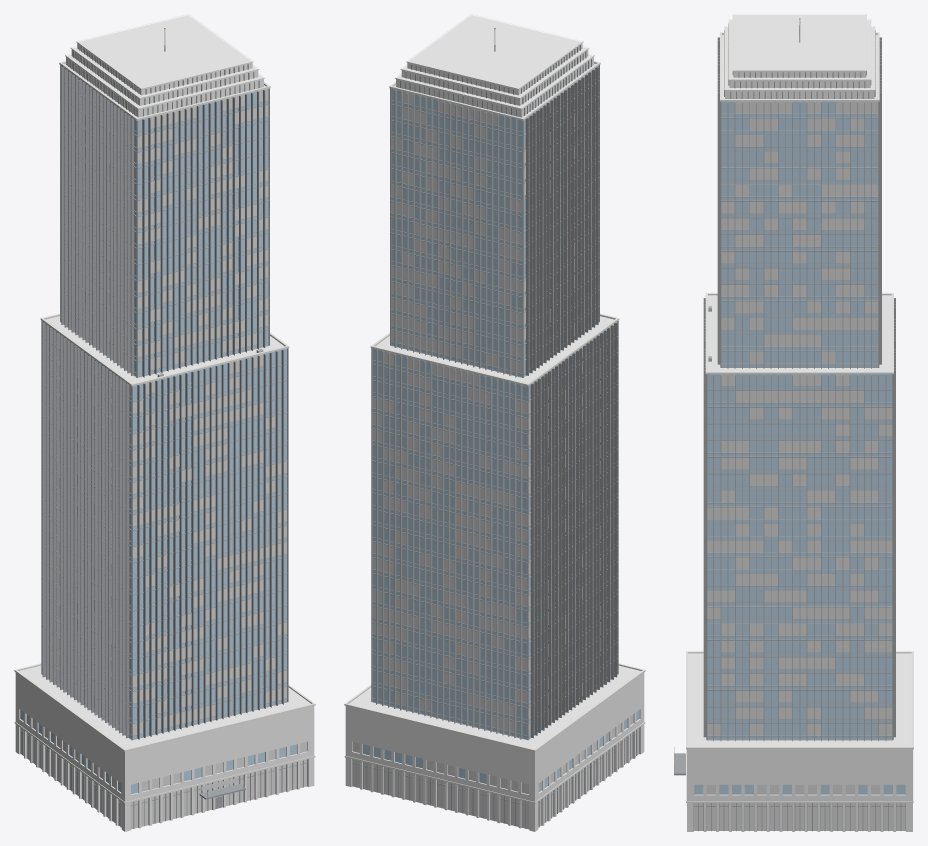
The model's file is tower_hero600.glb.
3 views of the same model, side by side, from view 1: azimuth 30°, elevation 25°; view 2: azimuth 150°, elevation 25°; view 3: azimuth 270°, elevation 25° (orthographic). The views are drawn at different scales.
Visible parts, largest first — view 1: tower_hero600_Accent, tower_hero600_Glass, tower_hero600_WindowsLit, tower_hero600_Walls2, tower_hero600_Frames, tower_hero600_Roof, tower_hero600_Trim; view 2: tower_hero600_Accent, tower_hero600_Glass, tower_hero600_WindowsLit, tower_hero600_Walls2, tower_hero600_Frames, tower_hero600_Roof, tower_hero600_Trim; view 3: tower_hero600_Glass, tower_hero600_WindowsLit, tower_hero600_Accent, tower_hero600_Frames, tower_hero600_Roof, tower_hero600_Walls2, tower_hero600_Trim.
Boxes of the visible parts, x1,y1,x2,y2 form: tower_hero600_Accent: (42,45,283,799); tower_hero600_Glass: (20,66,296,794); tower_hero600_WindowsLit: (21,81,307,829); tower_hero600_Walls2: (15,43,314,831); tower_hero600_Frames: (20,65,307,828); tower_hero600_Roof: (19,15,310,749); tower_hero600_Trim: (14,14,315,803); tower_hero600_Accent: (376,45,617,739); tower_hero600_Glass: (363,66,639,792); tower_hero600_WindowsLit: (352,76,638,829); tower_hero600_Walls2: (345,43,644,831); tower_hero600_Frames: (352,65,639,828); tower_hero600_Roof: (349,15,640,749); tower_hero600_Trim: (344,14,645,803); tower_hero600_Glass: (694,101,905,794); tower_hero600_WindowsLit: (694,101,905,830); tower_hero600_Accent: (674,23,895,775); tower_hero600_Frames: (693,101,905,831); tower_hero600_Roof: (688,15,911,746); tower_hero600_Walls2: (687,71,912,831); tower_hero600_Trim: (686,14,913,802).
Bounding box in the file's own units: 161 × 598 × 170.
